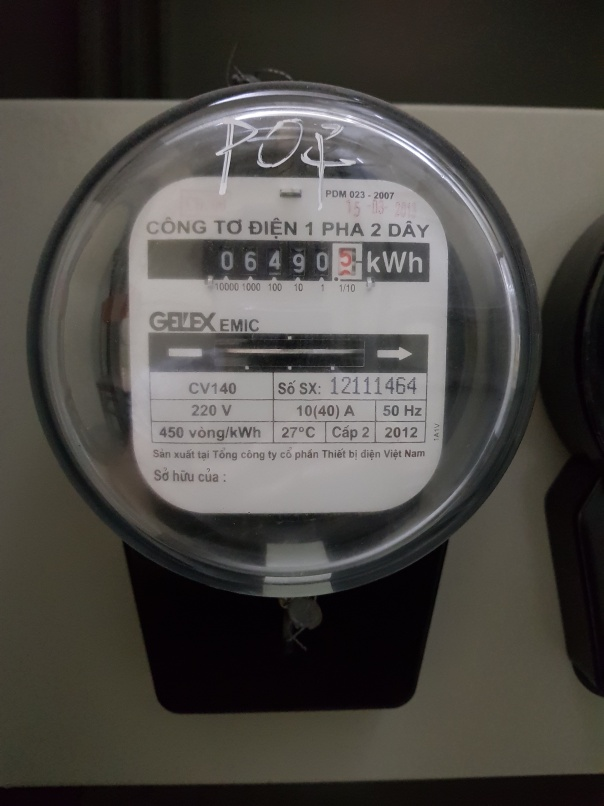counter: (146, 238, 431, 283)
electricity_meter: (36, 78, 539, 599)
